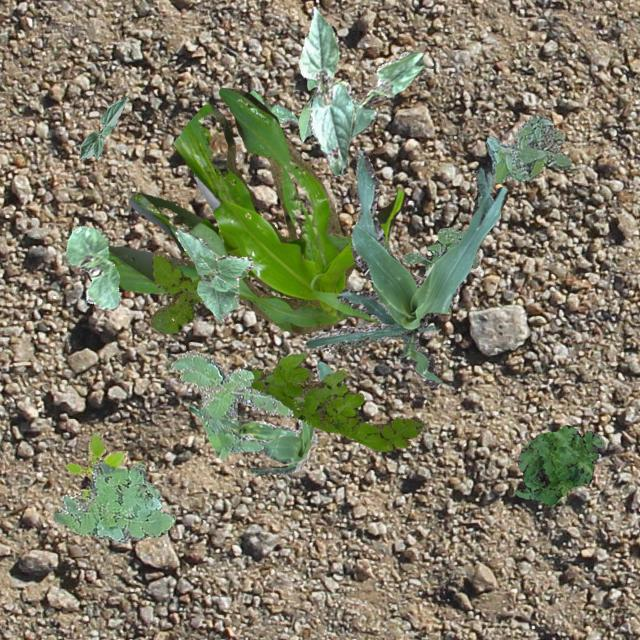crop: (106, 86, 404, 332), (306, 148, 507, 386), (298, 6, 356, 174), (250, 361, 334, 474), (174, 228, 252, 322), (350, 50, 424, 136), (188, 404, 316, 444), (65, 224, 118, 310), (78, 94, 126, 160), (298, 76, 318, 142)
weed: (248, 352, 422, 451), (170, 348, 292, 458), (52, 458, 175, 542), (512, 424, 602, 506), (484, 114, 570, 182), (150, 250, 200, 332), (65, 432, 126, 498), (402, 226, 479, 272), (248, 90, 298, 124)
